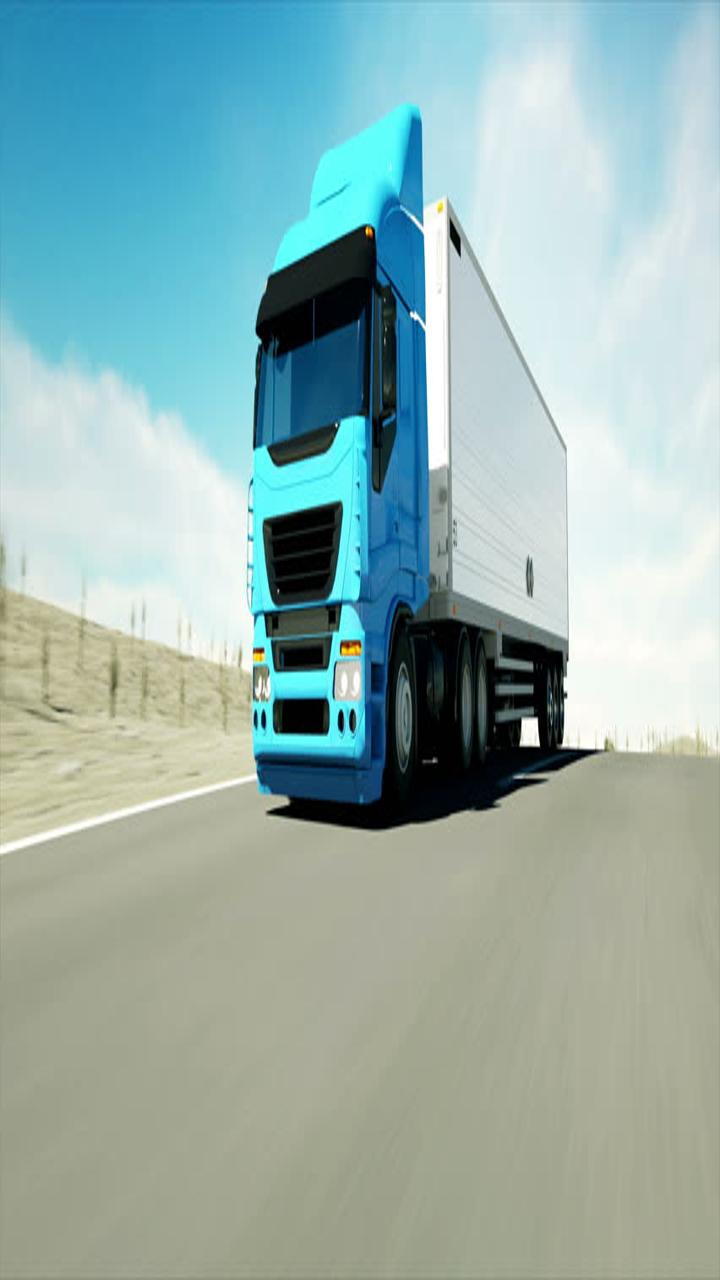vehicle: (179, 96, 656, 893)
